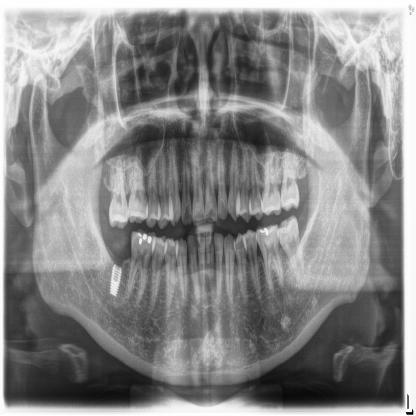Bicon: (110, 260, 122, 300)
